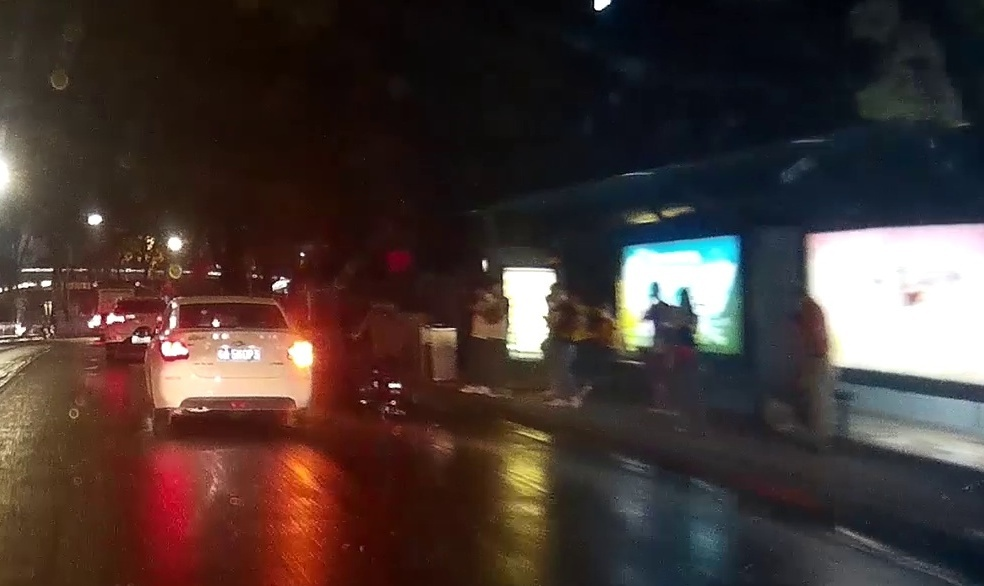L_light: (160, 340, 189, 361)
R_light: (288, 342, 311, 364)
T_light: (221, 302, 243, 308)
night-right: (159, 296, 313, 428)
